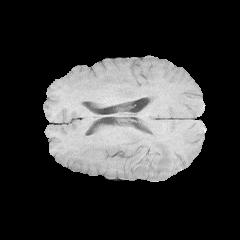glioma: (119, 128, 173, 178)
